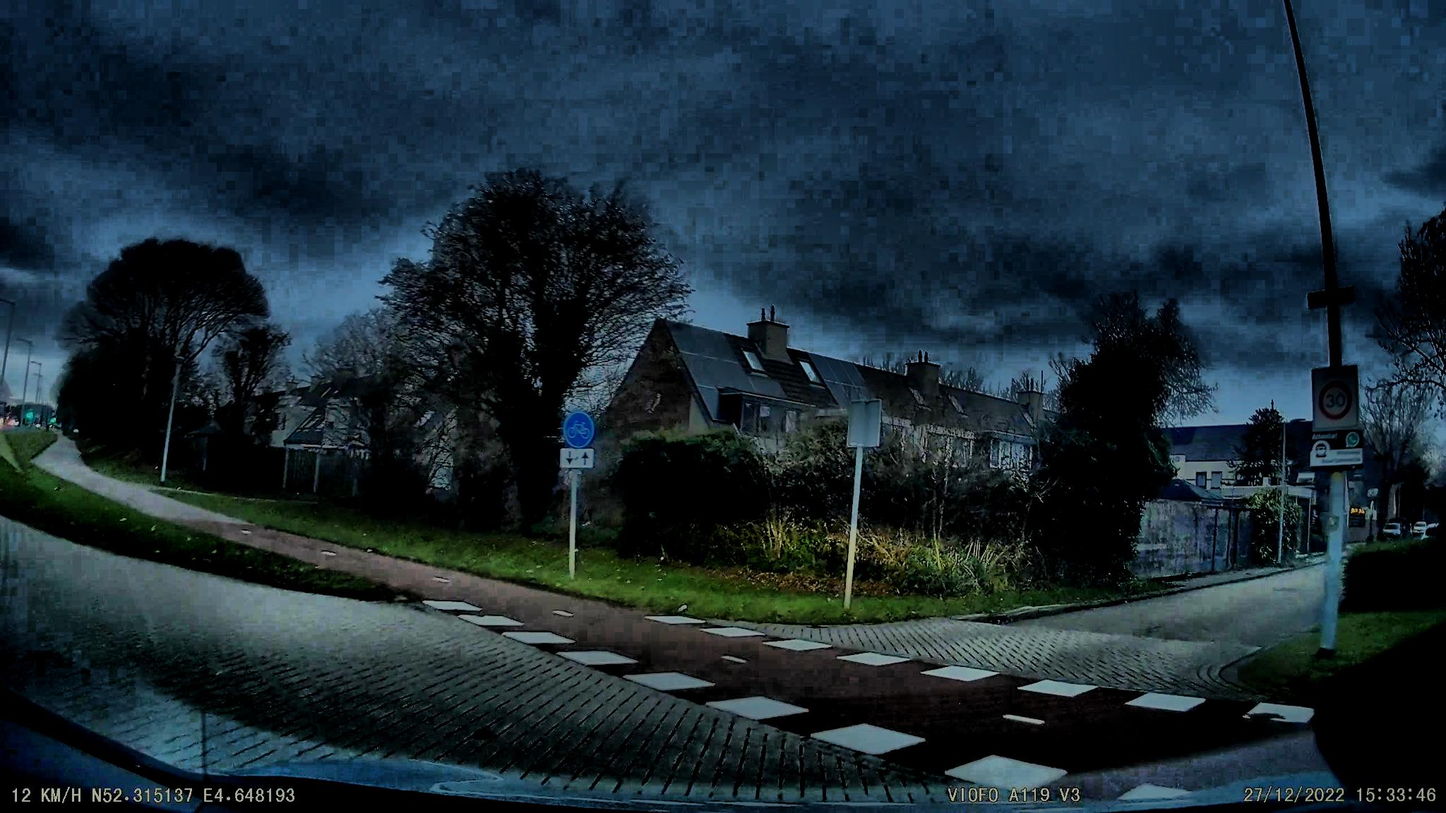Roads: (0, 516, 1344, 813)
